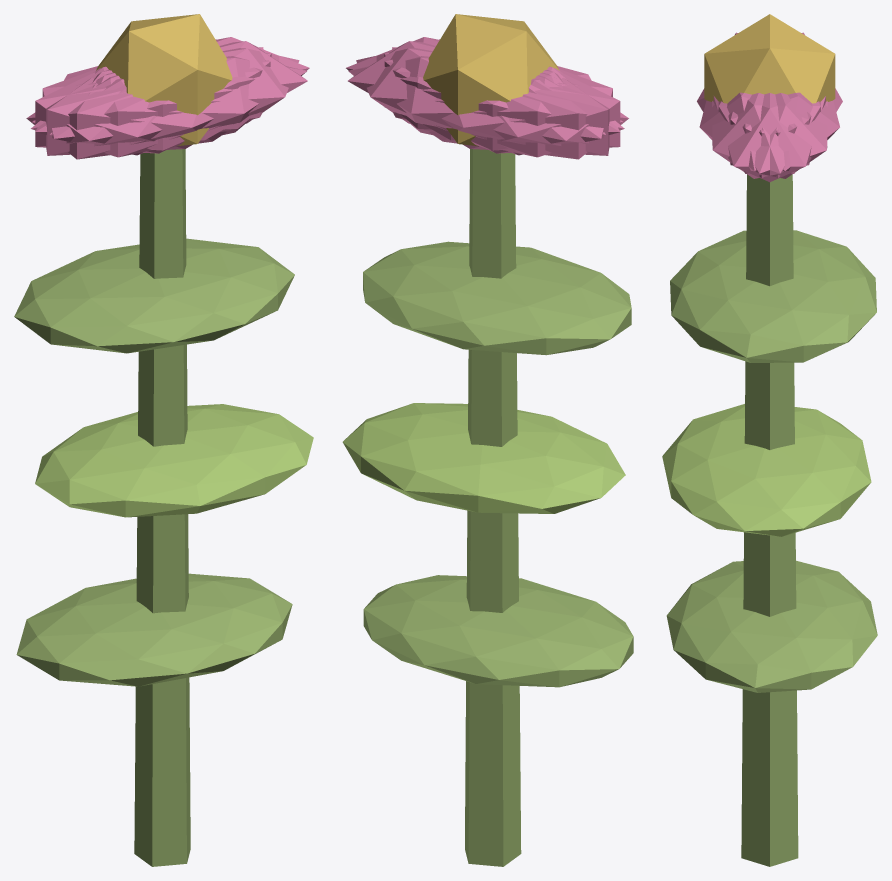
File: alternanthera-pungens.glb
3 views of the same model, side by side, from view 1: azimuth 30°, elevation 25°; view 2: azimuth 150°, elevation 25°; view 3: azimuth 270°, elevation 25° (orthographic).
Parts seen in each view (by area): view 1: stem, leaf2, leaf1, leaf0, center, petal1, petal6, petal2, petal5, petal7, petal0, petal4 (+2 smaller); view 2: stem, leaf2, leaf0, leaf1, center, petal8, petal3, petal7, petal4, petal2, petal0, petal5 (+2 smaller); view 3: stem, leaf1, leaf2, leaf0, center, petal0, petal4, petal5, petal1, petal8.
Part boxes in pixels (x1,y1,x2,y2): stem: [134, 149, 190, 866]; leaf2: [14, 238, 294, 353]; leaf1: [35, 404, 313, 517]; leaf0: [16, 573, 292, 686]; center: [96, 14, 232, 146]; petal1: [31, 56, 306, 157]; petal6: [26, 68, 226, 159]; petal2: [46, 47, 263, 155]; petal5: [49, 48, 299, 150]; petal7: [35, 53, 271, 153]; petal0: [96, 41, 307, 140]; petal4: [32, 37, 309, 132]; stem: [465, 149, 521, 866]; leaf2: [363, 241, 631, 355]; leaf0: [363, 575, 633, 687]; leaf1: [342, 403, 625, 513]; center: [423, 14, 559, 146]; petal8: [348, 56, 624, 157]; petal3: [429, 68, 628, 159]; petal7: [392, 47, 609, 155]; petal4: [356, 48, 605, 150]; petal2: [384, 53, 620, 153]; petal0: [348, 41, 559, 140]; petal5: [346, 37, 623, 132]; stem: [741, 174, 798, 866]; leaf1: [662, 404, 871, 536]; leaf2: [670, 230, 876, 362]; leaf0: [666, 560, 877, 692]; center: [704, 14, 835, 103]; petal0: [713, 93, 825, 182]; petal4: [718, 93, 827, 178]; petal5: [712, 93, 820, 178]; petal1: [699, 92, 811, 171]; petal8: [728, 92, 839, 171].
Bounding box in the file's own units: 0.1487 × 0.4247 × 0.1008.
